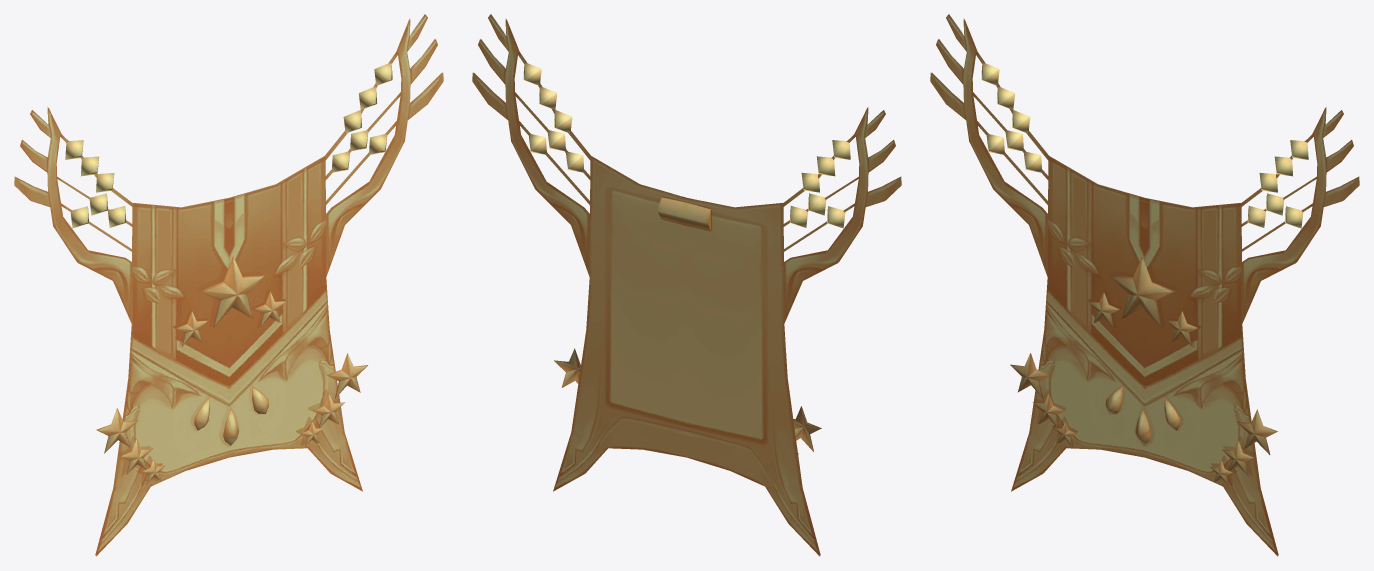
File: Hero_Veronica_Vari05_Weapon_L.fbx
3 views of the same model, side by side, from view 1: azimuth 30°, elevation 25°; view 2: azimuth 150°, elevation 25°; view 3: azimuth 330°, elevation 25° (orthographic).
Visible parts, largest first — view 1: Hero_Veronica_Vari05_Weapon_L; view 2: Hero_Veronica_Vari05_Weapon_L; view 3: Hero_Veronica_Vari05_Weapon_L.
Part boxes in pixels (bbox=[...]): Hero_Veronica_Vari05_Weapon_L: bbox=[14, 14, 443, 556]; Hero_Veronica_Vari05_Weapon_L: bbox=[472, 14, 901, 556]; Hero_Veronica_Vari05_Weapon_L: bbox=[930, 14, 1359, 556].
Size of the model in its own units: 0.4327 by 0.4454 by 0.0265.
Materials: 1 (1 with a texture image).
